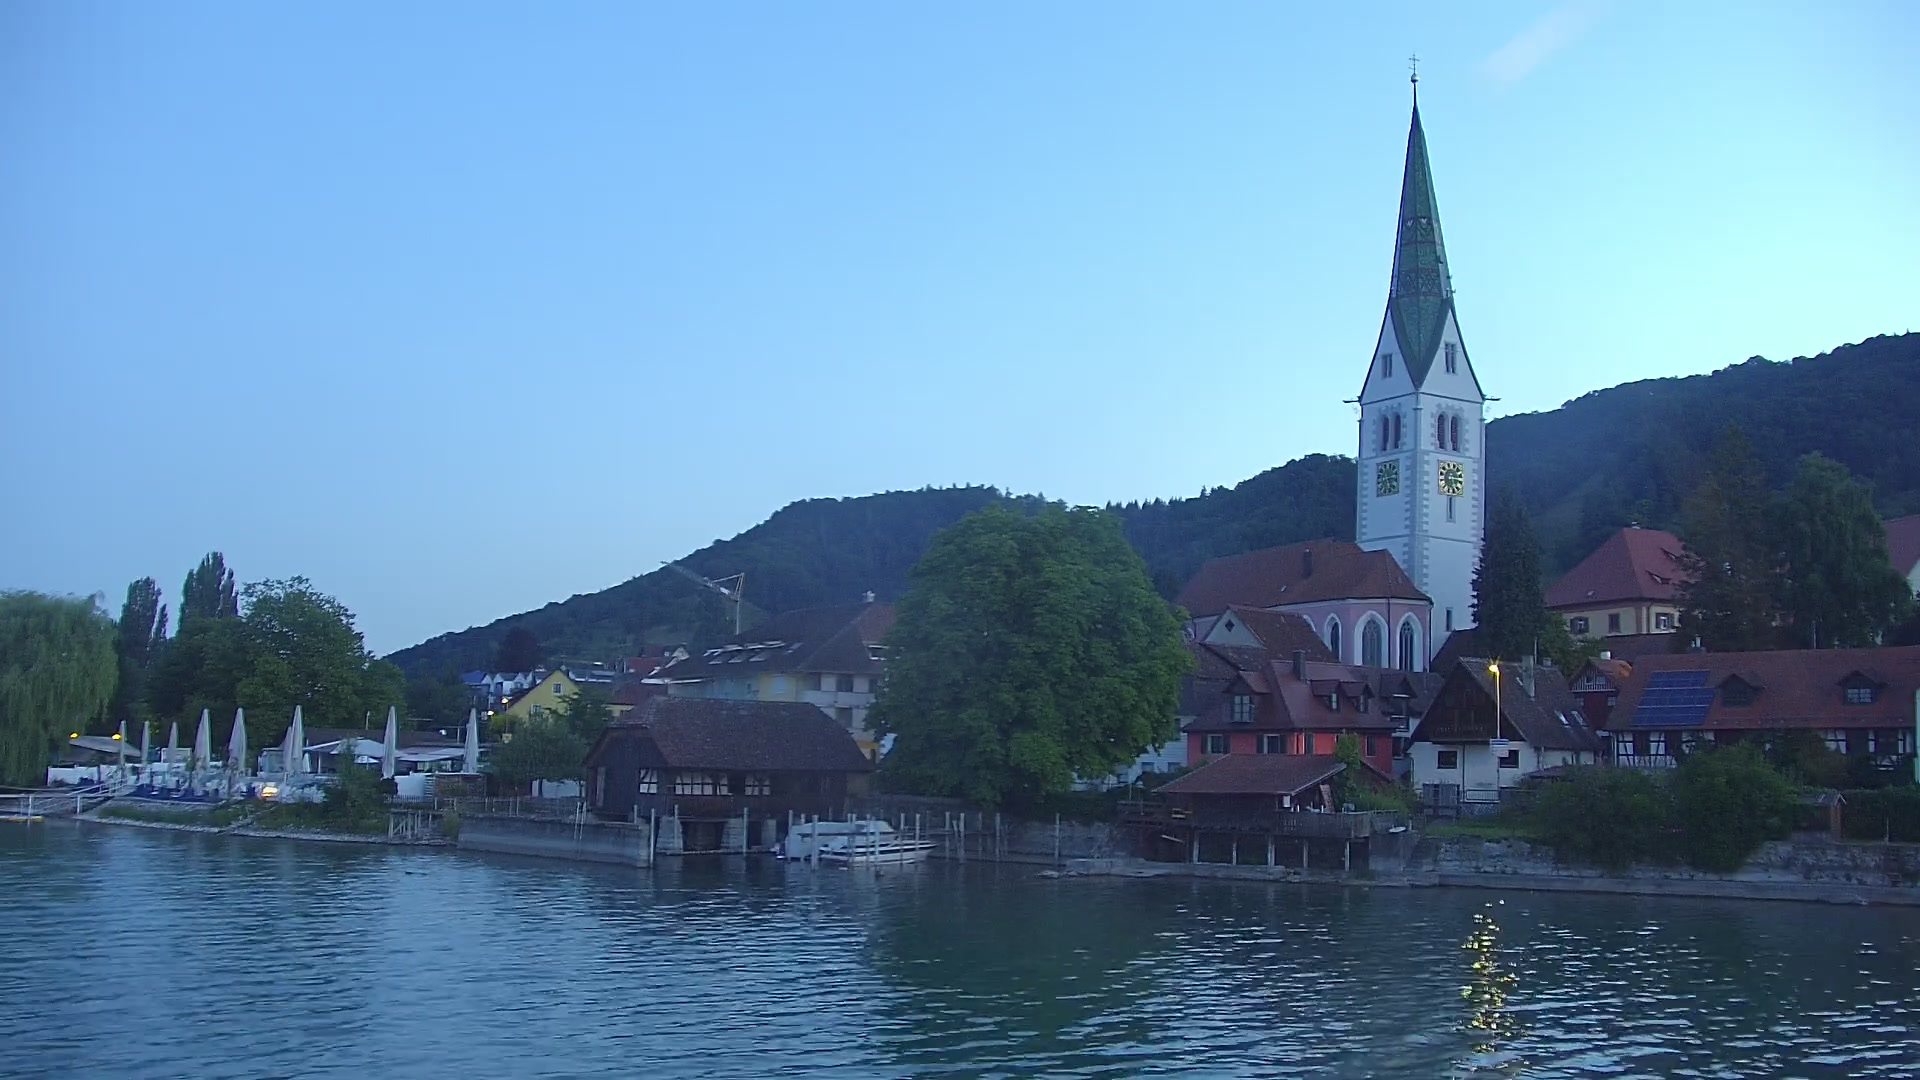sea: (816, 819, 940, 865)
